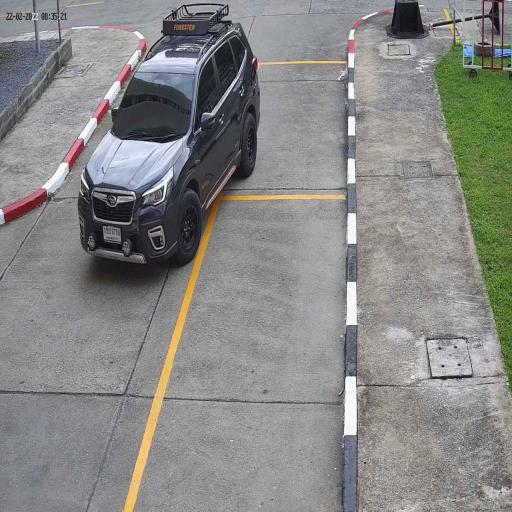car: (78, 12, 262, 269)
